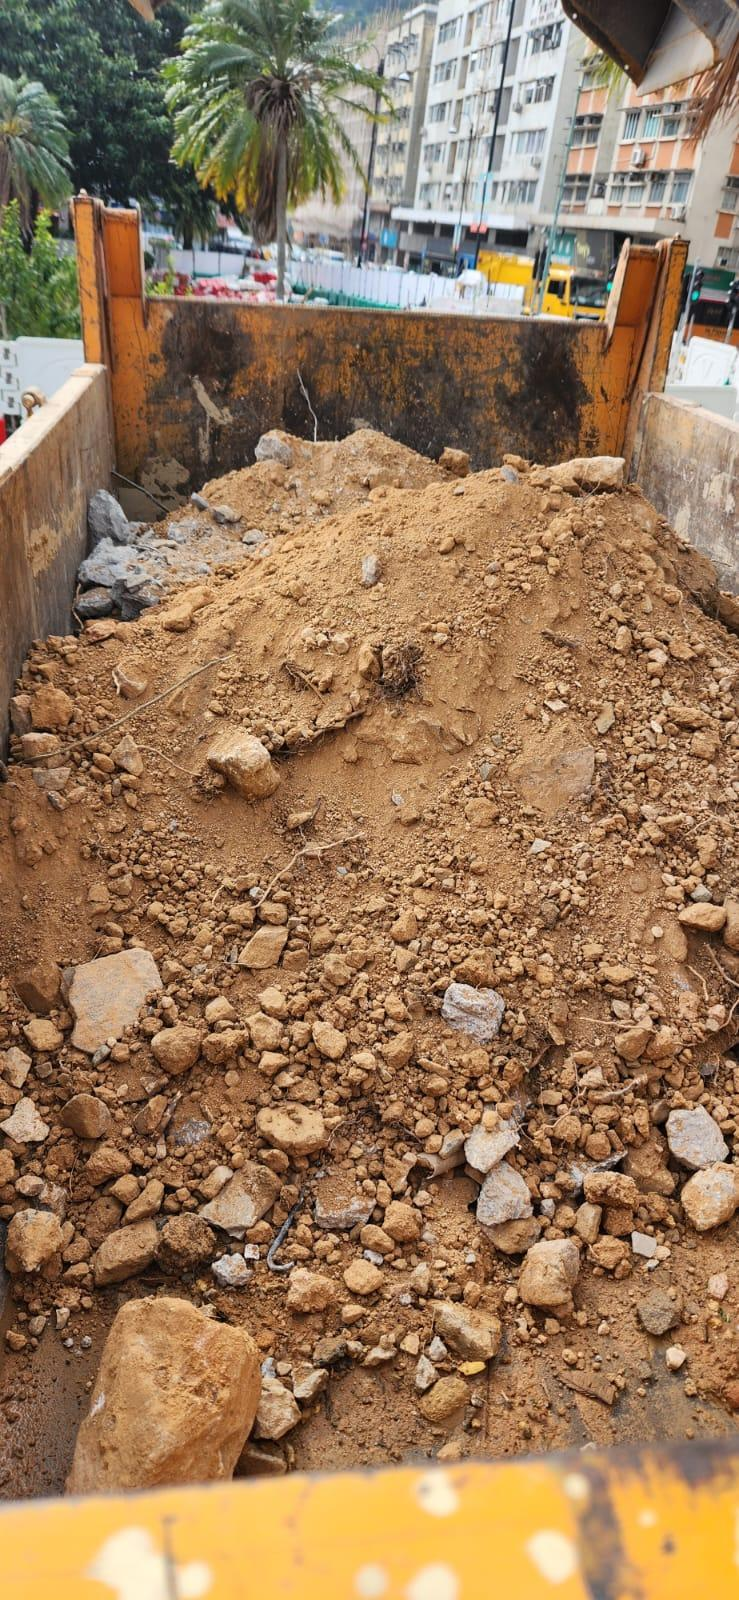dry: (7, 462, 739, 1495)
